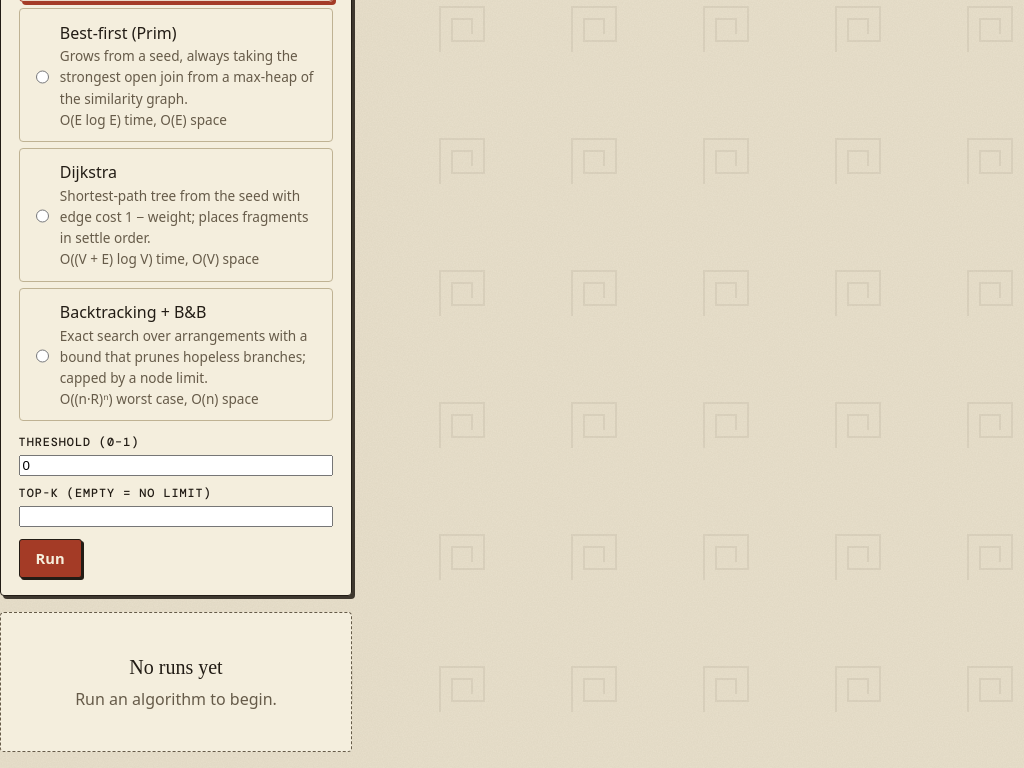
Scenario: ReconstructPage › shows the busy state with Cancel; Cancel aborts the request and leaves the page usable
(page scrolled)
Expected: the text "Run an algorithm to begin." is shown, [75, 688, 277, 710]
Step 1. Click the button "Run" → coordinates (50, 558), box [19, 538, 82, 578]
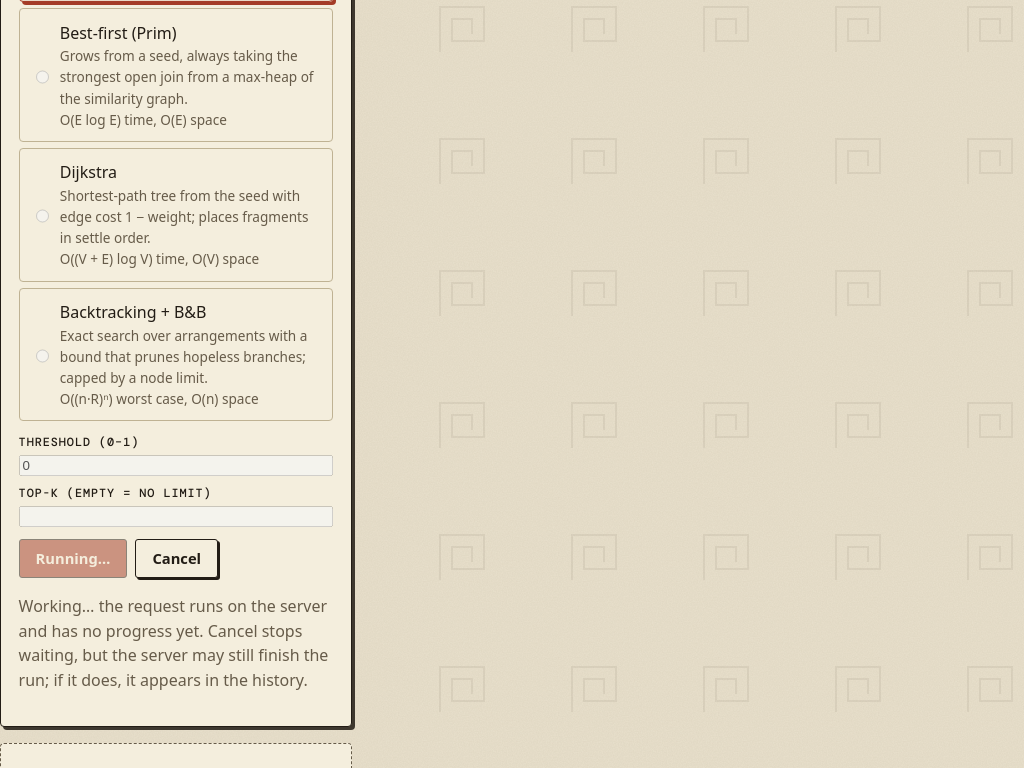
Result: the button "Running…" is disabled at [19, 538, 127, 578]
Step 2. Click the button "Cancel" → coordinates (177, 558), box [135, 538, 218, 578]
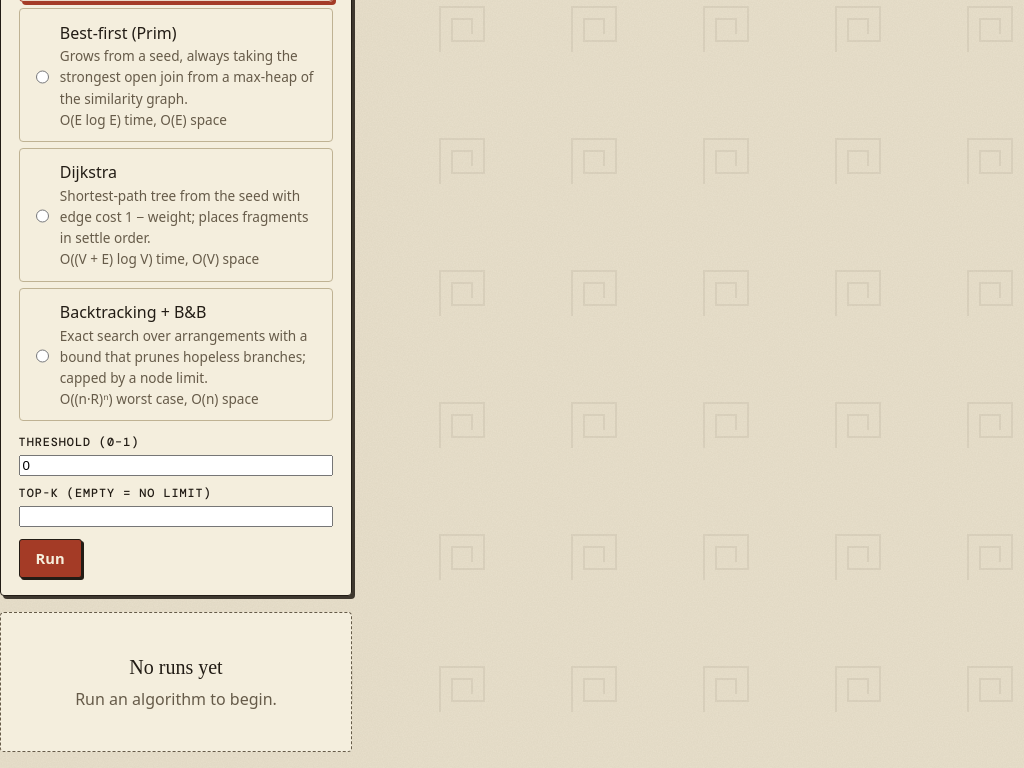
Result: the text with test id "run-busy" is gone
Result: the button "Run" is enabled at [19, 538, 82, 578]
